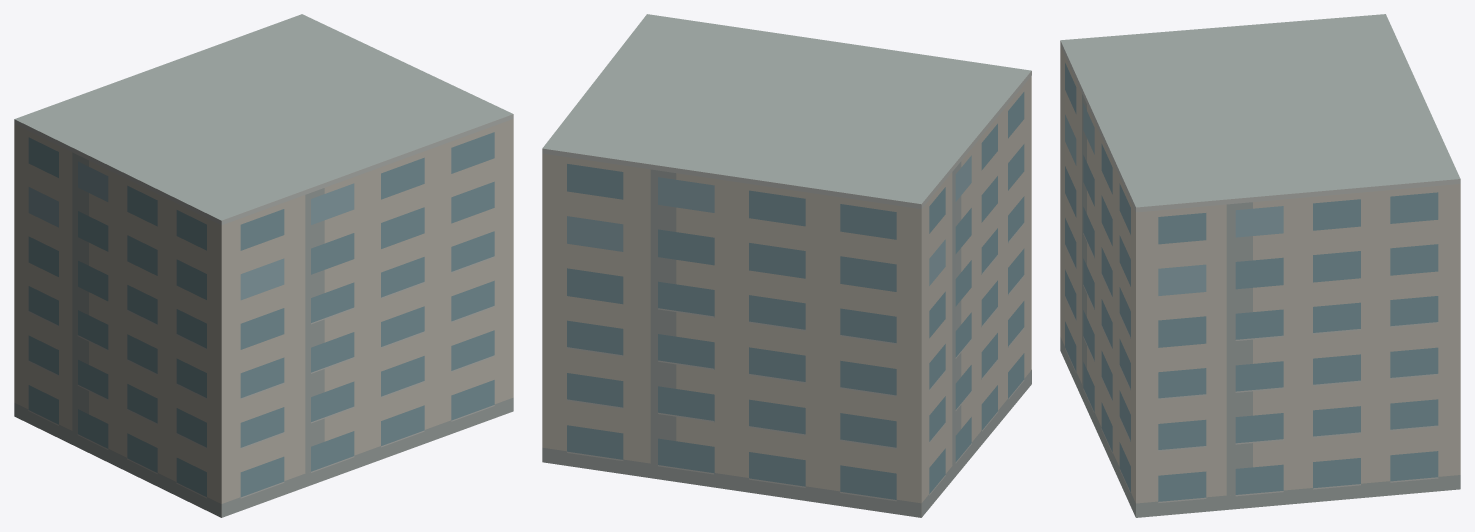
Rendered from survey-upis-32839612.glb.
The picture shows the model from 3 angles, left to right: view 1: azimuth 30°, elevation 25°; view 2: azimuth 150°, elevation 25°; view 3: azimuth 270°, elevation 25°; orthographic projection. The views are drawn at different scales.
Visible parts, largest first — view 1: survey-upis-32839612.tmp; view 2: survey-upis-32839612.tmp; view 3: survey-upis-32839612.tmp.
Part boxes in pixels (bbox=[...]): survey-upis-32839612.tmp: bbox=[14, 14, 513, 517]; survey-upis-32839612.tmp: bbox=[542, 14, 1031, 517]; survey-upis-32839612.tmp: bbox=[1060, 14, 1460, 517].
Size of the model in its own units: 20.46 by 15.3 by 17.89.
